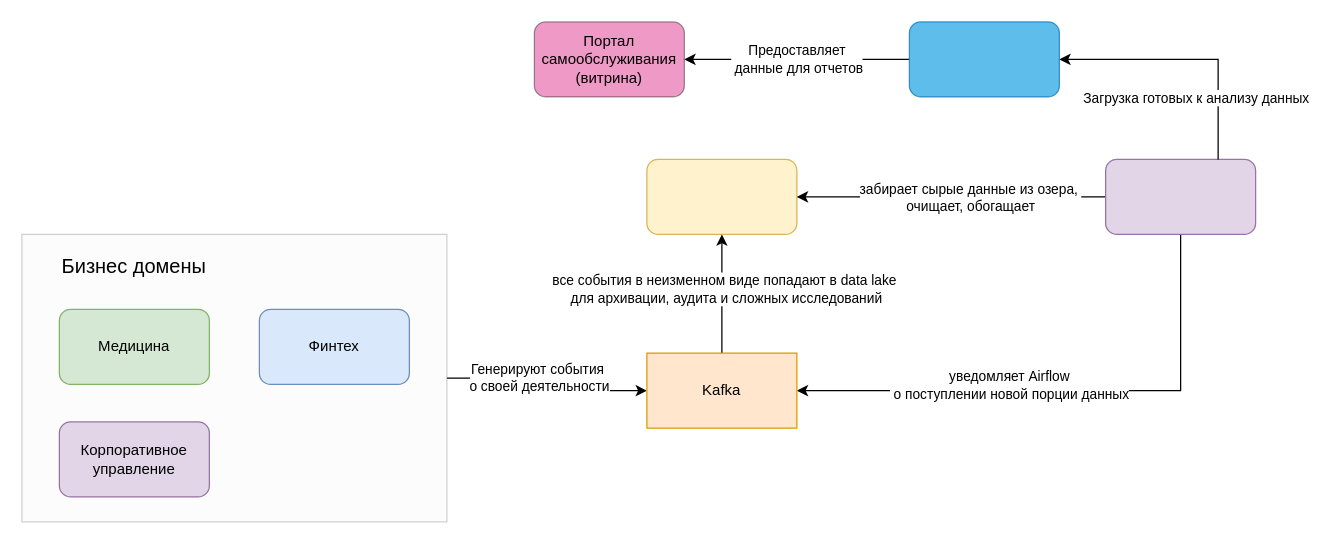
This 1334x544 diagram has some shape labels left out. The centre of each missing label's shape, as x and y in pixels:
"ClickHouse Обработанные и готовые для анализа данные" belongs at point 983,59.
"Data Lake (S3) (сырые данные)" belongs at point 721,196.
"Сервис трансформации (airflow)" belongs at point 1180,196.
